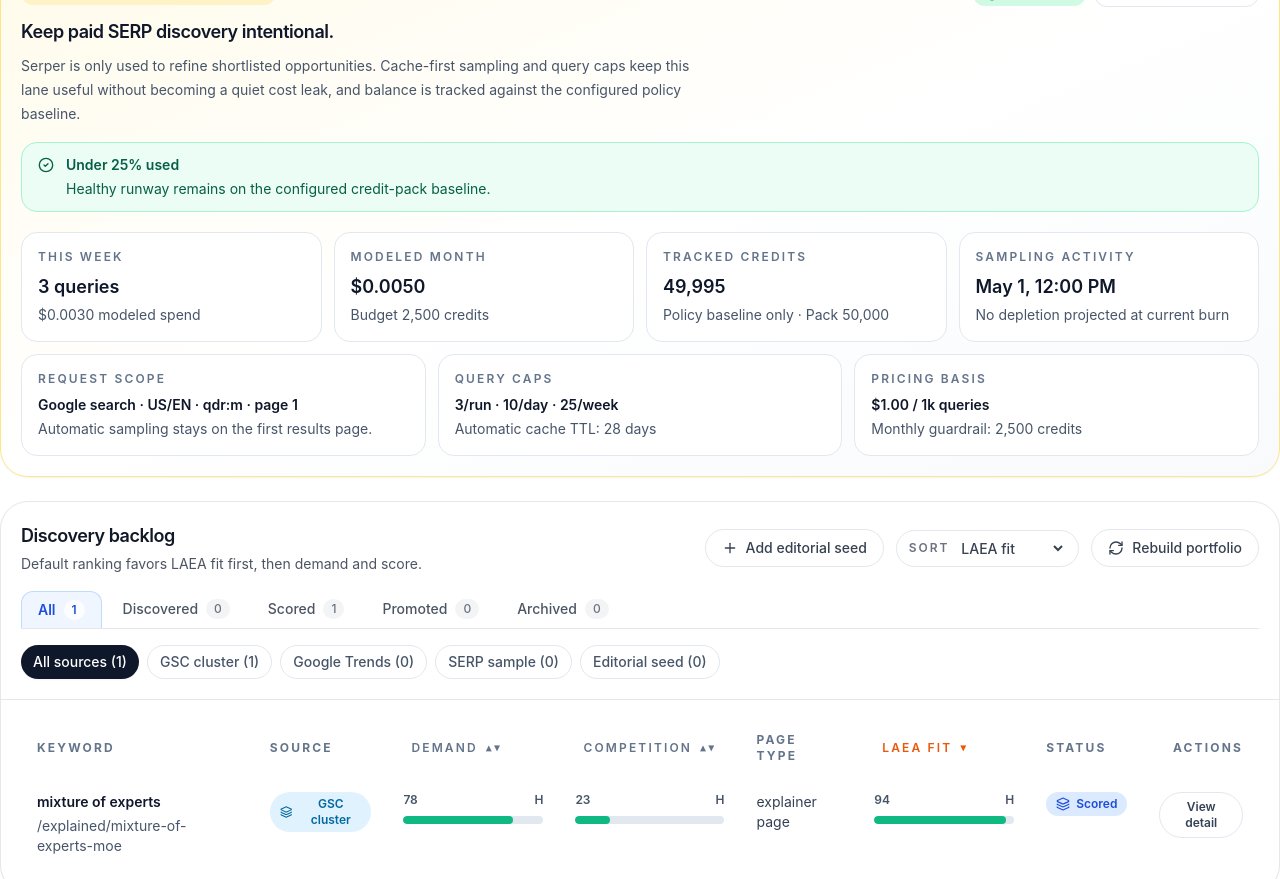
it: SeoKeywordPortfolioPage › rebuilds the portfolio and refreshes the list
(page scrolled)
Expected: the text "mixture of experts" is shown, [37,793,161,810]
Click the button "Rebuild portfolio".
click(1175, 548)  # box [1091,529,1259,567]
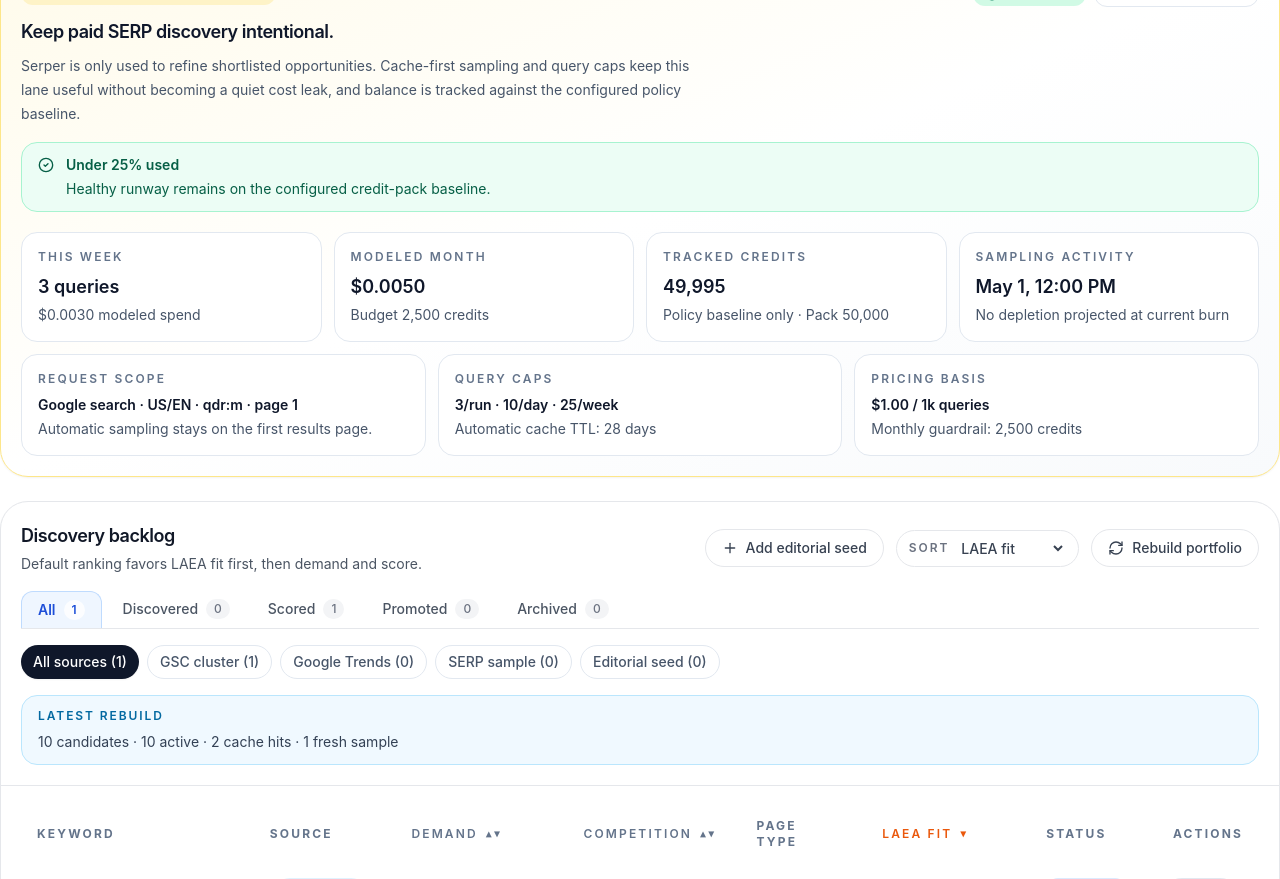
Now the text "Latest rebuild" is shown, box [38,708,164,723]
Now the text "10 candidates · 10 active · 2 cache hits · 1 fresh sample" is shown, box [38,733,398,750]
